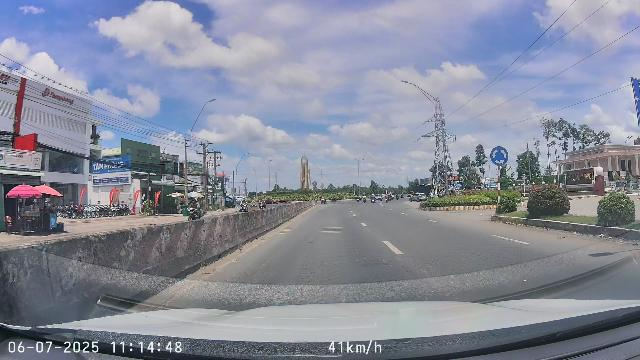303-noi-giao-nhau-chay-theo-vong-xuyen: (490, 146, 509, 166)
